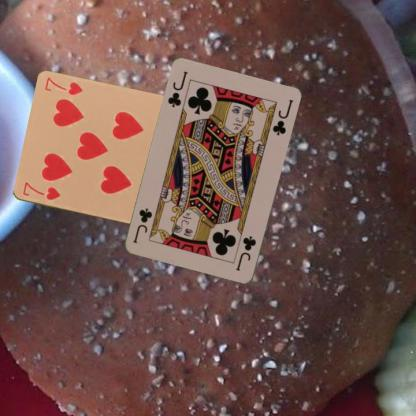7h: (20, 179, 61, 202)
Jc: (165, 69, 190, 109), (233, 234, 258, 273)
